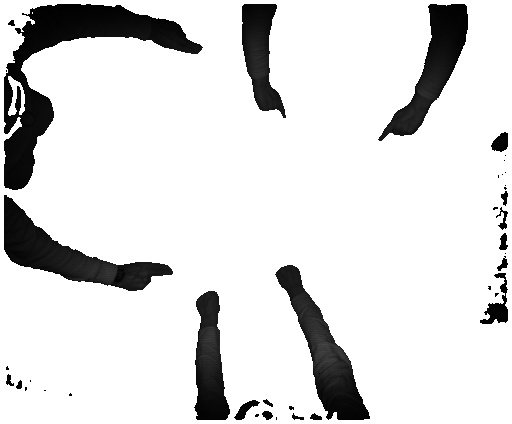fist: (272, 264, 310, 294), (192, 288, 223, 323)
hand: (376, 102, 430, 143), (121, 256, 175, 295), (154, 16, 207, 55), (248, 84, 287, 119)
